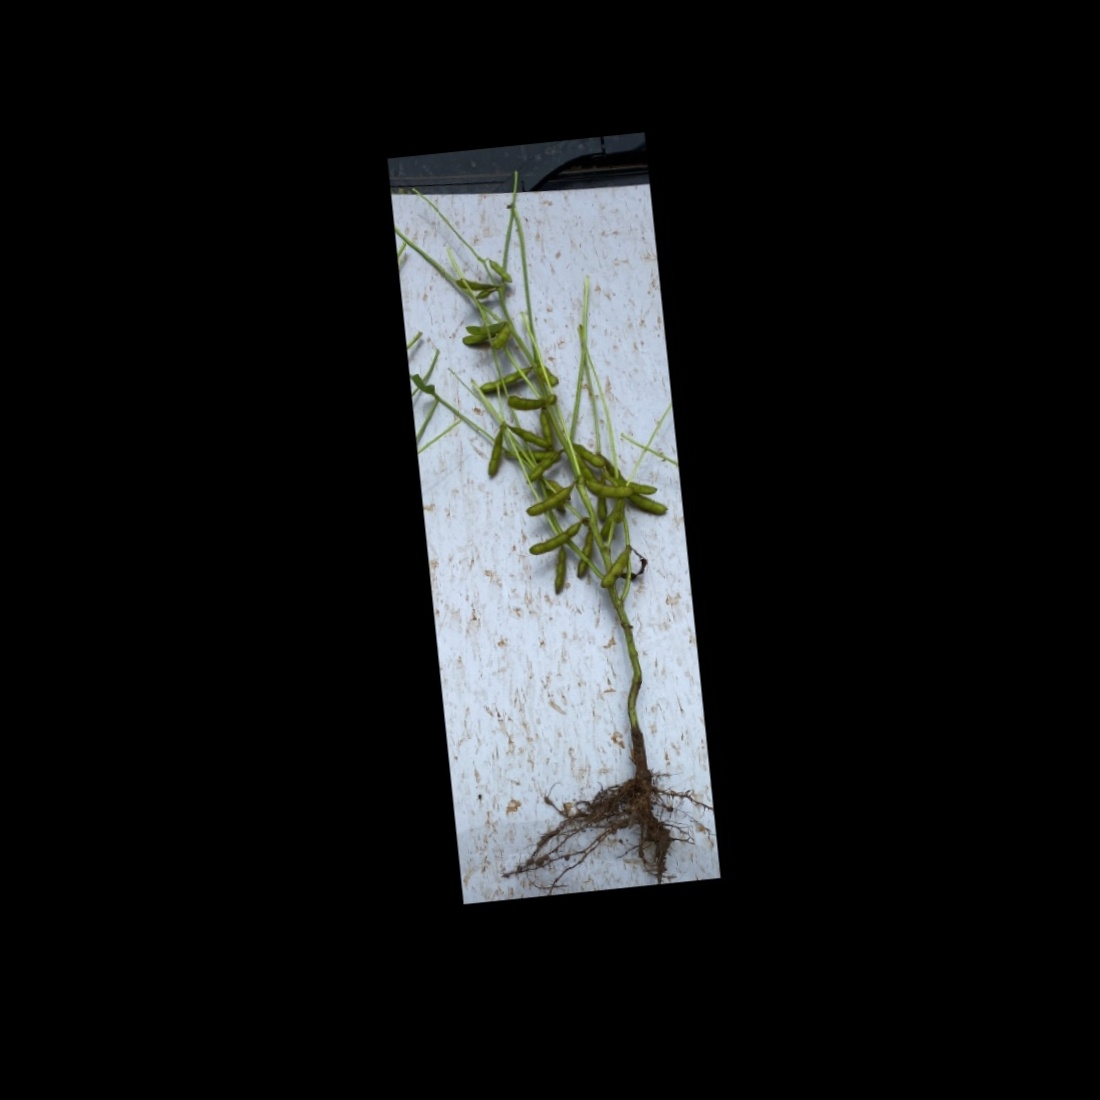pod: (526, 521, 581, 557), (477, 362, 532, 392), (596, 549, 635, 591), (525, 488, 573, 519), (503, 420, 547, 452), (547, 547, 571, 599), (572, 533, 596, 582), (580, 477, 631, 501), (502, 389, 545, 414), (482, 434, 506, 477), (571, 440, 604, 469), (630, 491, 667, 516), (487, 254, 514, 286), (573, 453, 596, 485), (539, 408, 555, 447), (593, 496, 611, 522)
soy: (422, 193, 705, 882)
